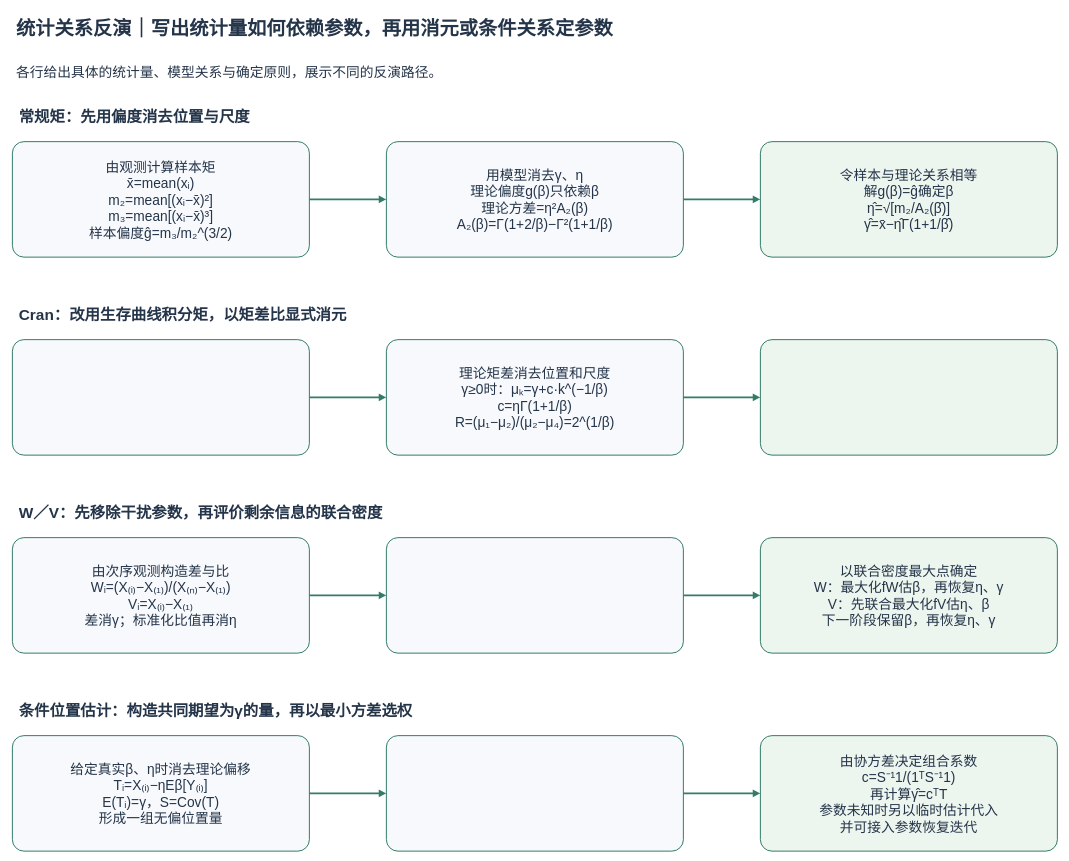
This 1069x861 diagram has some shape labels left out. The centre of each missing label's shape, as x and y in pixels:
以样本矩差比反解参数 R̂=(μ̂₁−μ̂₂)/(μ̂₂−μ̂₄) β̂=ln2/ln R̂ 再由任意两条μₖ关系解γ、η: the point at 909,397
写出变换统计量的联合密度 W内部非退化分量：fW(w;β) V非退化分量：fV(v;η,β) 保留各分量之间的相关结构: the point at 535,595
对经验生存曲线求积分 μ̂ₖ=∫₀∞[1−Fₙ(x)]ᵏdx 取k=1、2、4 形成三个样本积分矩: the point at 161,397
把线性组合的方差写成目标 γ̂=cᵀT 在1ᵀc=1下最小化cᵀSc 约束保持无偏，目标压低方差: the point at 535,793
